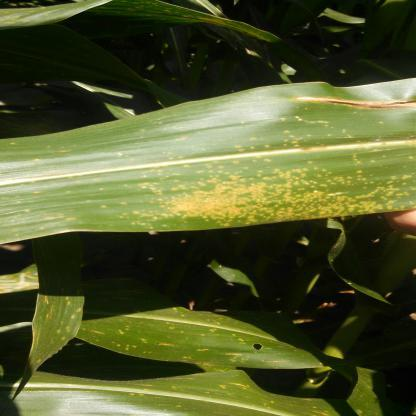Corn rust leaf: (4, 78, 416, 248)
